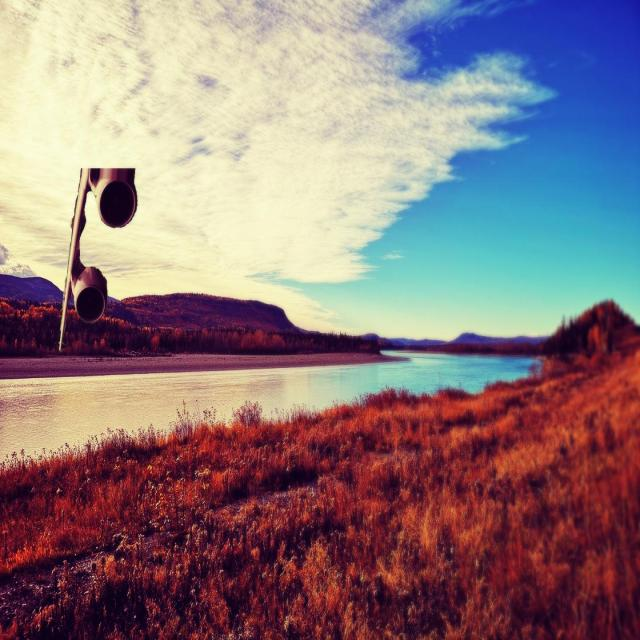airplane: (58, 166, 138, 352)
